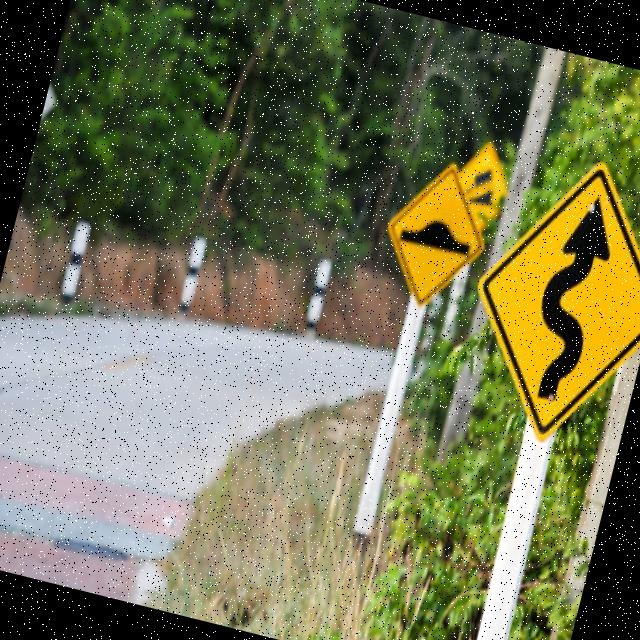left_sharp_curve: (450, 137, 640, 456)
